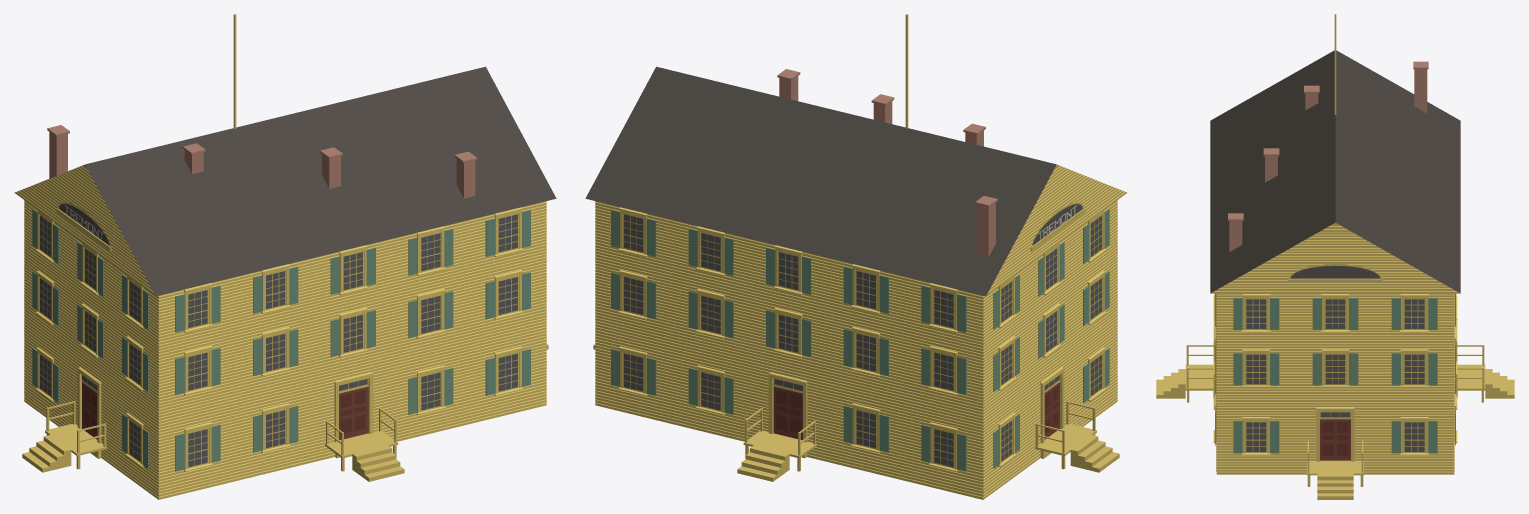
Rendered from tremont_house_1__frame_1833.glb.
3 views of the same model, side by side, from view 1: azimuth 30°, elevation 25°; view 2: azimuth 150°, elevation 25°; view 3: azimuth 270°, elevation 25° (orthographic). The views are drawn at different scales.
Visible parts, largest first — view 1: tremont_house_1__frame_1833; view 2: tremont_house_1__frame_1833; view 3: tremont_house_1__frame_1833.
Part boxes in pixels (left/top/right/bottom): tremont_house_1__frame_1833: left=14, top=14, right=556, bottom=499; tremont_house_1__frame_1833: left=585, top=14, right=1127, bottom=499; tremont_house_1__frame_1833: left=1156, top=14, right=1514, bottom=499.
Size of the model in its own units: 19.88 by 15.06 by 13.78.
